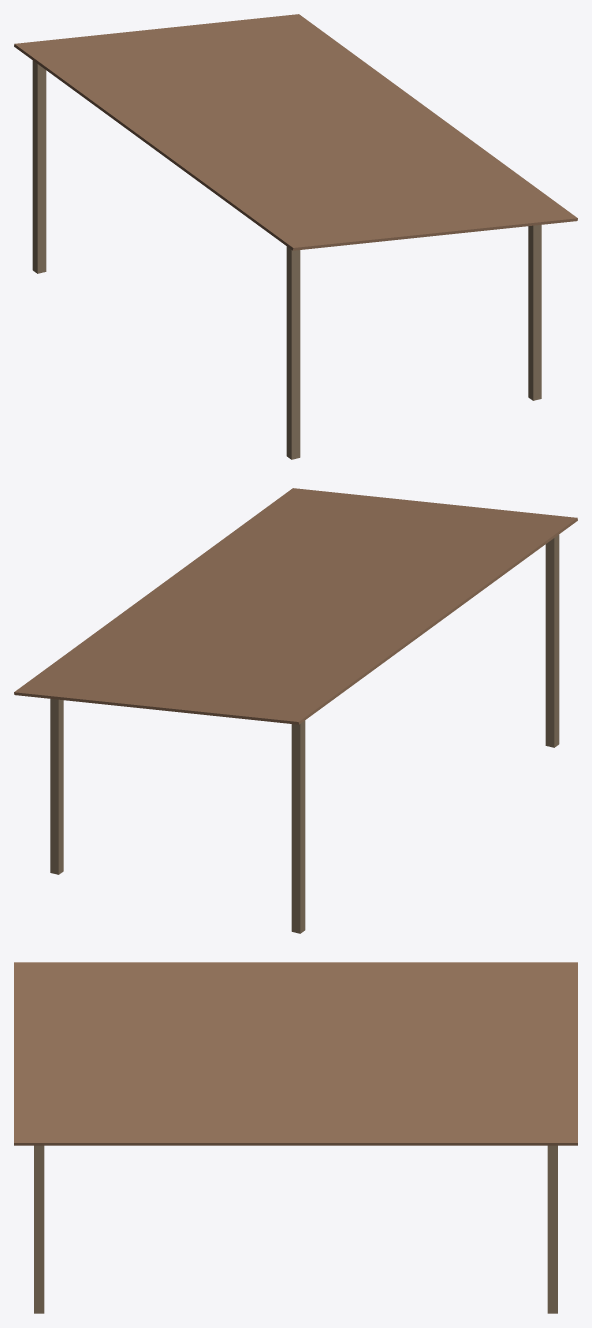
Rendered from LeanTo.glb.
3 renders of one model, top to bottom at view 1: azimuth 30°, elevation 25°; view 2: azimuth 150°, elevation 25°; view 3: azimuth 270°, elevation 25°, orthographic.
Visible parts, largest first — view 1: LeanTo.Roof, LeanTo.Posts; view 2: LeanTo.Roof, LeanTo.Posts; view 3: LeanTo.Roof, LeanTo.Posts.
Part boxes in pixels (bbox=[...]): LeanTo.Roof: bbox=[14, 14, 577, 250]; LeanTo.Posts: bbox=[32, 60, 541, 459]; LeanTo.Roof: bbox=[14, 488, 577, 724]; LeanTo.Posts: bbox=[50, 534, 559, 933]; LeanTo.Roof: bbox=[14, 962, 577, 1145]; LeanTo.Posts: bbox=[34, 1145, 557, 1313].
Size of what is drawn, in the model's own units: 3.3 by 2.45 by 5.6.
